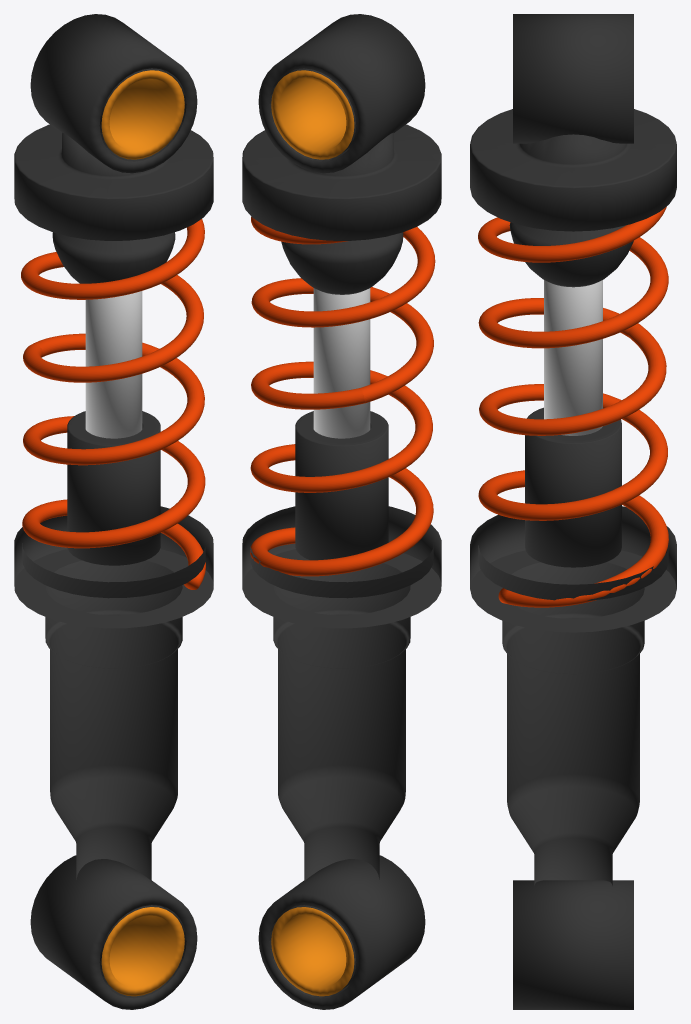
The model's file is carspring.fbx.
The picture shows the model from 3 angles, left to right: view 1: azimuth 30°, elevation 25°; view 2: azimuth 150°, elevation 25°; view 3: azimuth 270°, elevation 25°; orthographic projection. The views are drawn at different scales.
Parts seen in each view (by area): view 1: Cylinder.006, Cylinder, Cylinder.001; view 2: Cylinder.006, Cylinder, Cylinder.001; view 3: Cylinder.006, Cylinder, Cylinder.001.
Part boxes in pixels (left/top/right/bottom): Cylinder.006: left=14, top=411, right=213, bottom=1009; Cylinder: left=14, top=14, right=213, bottom=438; Cylinder.001: left=21, top=219, right=205, bottom=589; Cylinder.006: left=242, top=411, right=441, bottom=1009; Cylinder: left=242, top=14, right=441, bottom=438; Cylinder.001: left=250, top=217, right=435, bottom=576; Cylinder.006: left=470, top=407, right=676, bottom=1009; Cylinder: left=470, top=14, right=676, bottom=435; Cylinder.001: left=478, top=206, right=668, bottom=607.
Size of the model in its own units: 421 by 2210 by 421.
